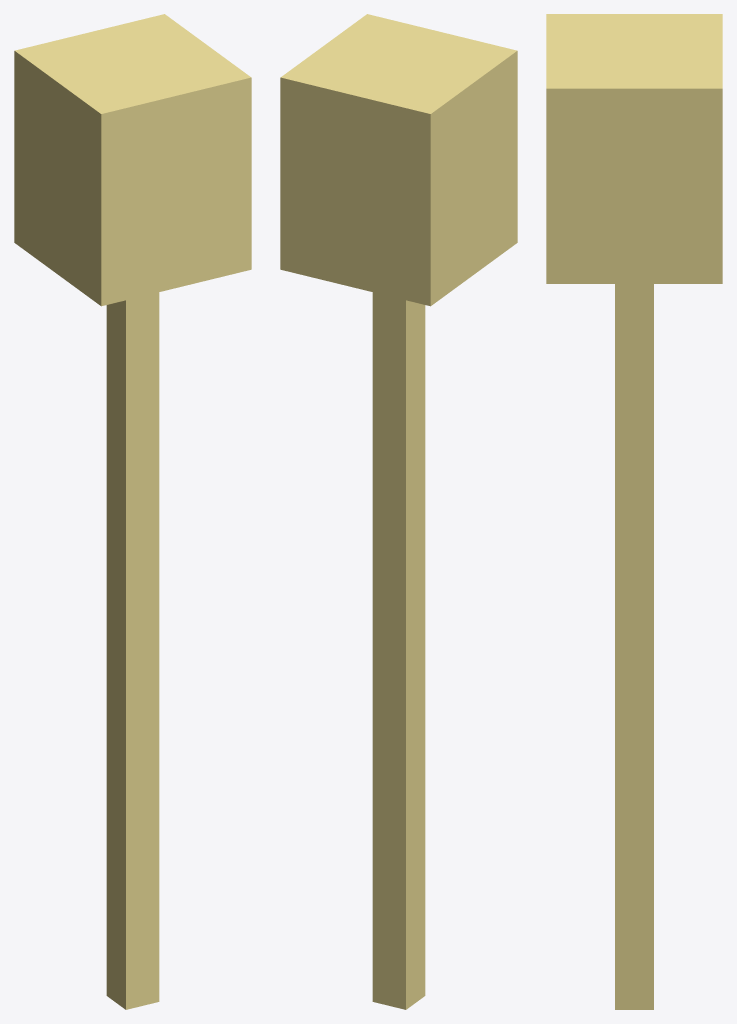
Rendered from paladin_sunmace.glb.
3 views of the same model, side by side, from view 1: azimuth 30°, elevation 25°; view 2: azimuth 150°, elevation 25°; view 3: azimuth 270°, elevation 25° (orthographic).
Visible parts, largest first — view 1: paladin_sunmace; view 2: paladin_sunmace; view 3: paladin_sunmace.
Part boxes in pixels (x1=…): paladin_sunmace: x1=14, y1=14, x2=251, y2=1009; paladin_sunmace: x1=280, y1=14, x2=517, y2=1009; paladin_sunmace: x1=546, y1=14, x2=722, y2=1009.
Size of the model in its own units: 0.18 by 1.07 by 0.18.
